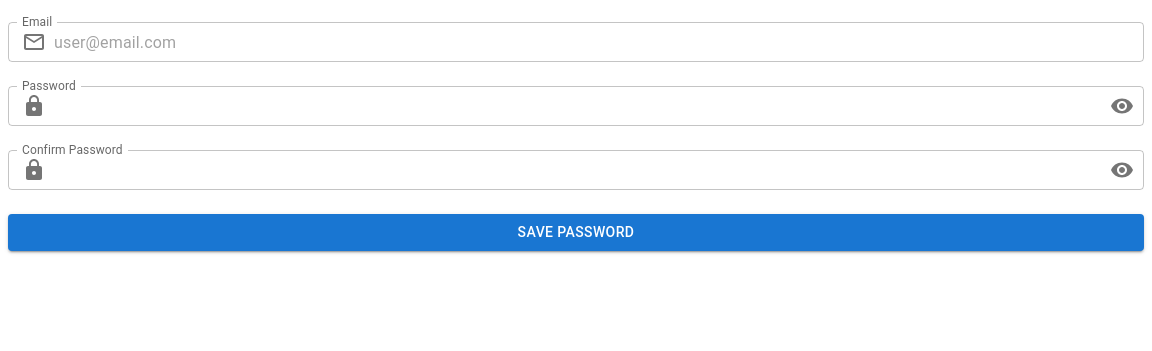
Reset Password Form › should display error messages when clicked on button and passwords does not match
This screenshot has width=1152, height=351.
Type "email@business.com" into the field labelled "Email" at (599, 42), box [54,22,1144,62]
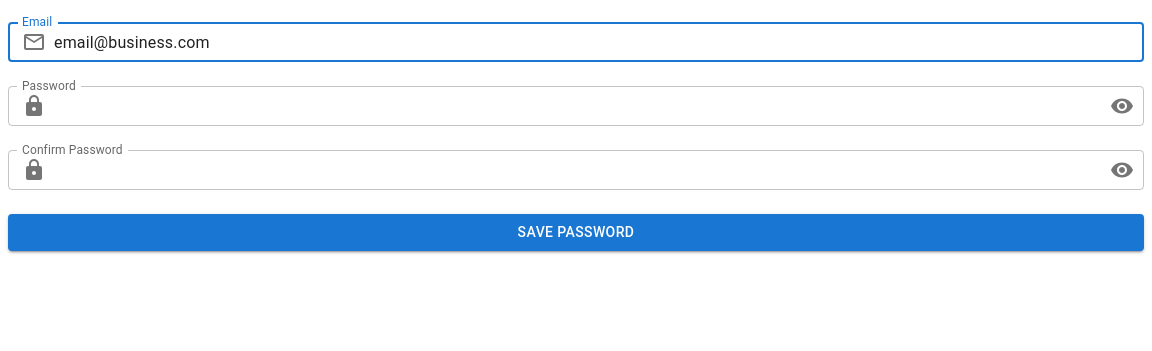
Type "Clave123" into the password field labelled "Password" at (578, 106), box [54,86,1102,126]
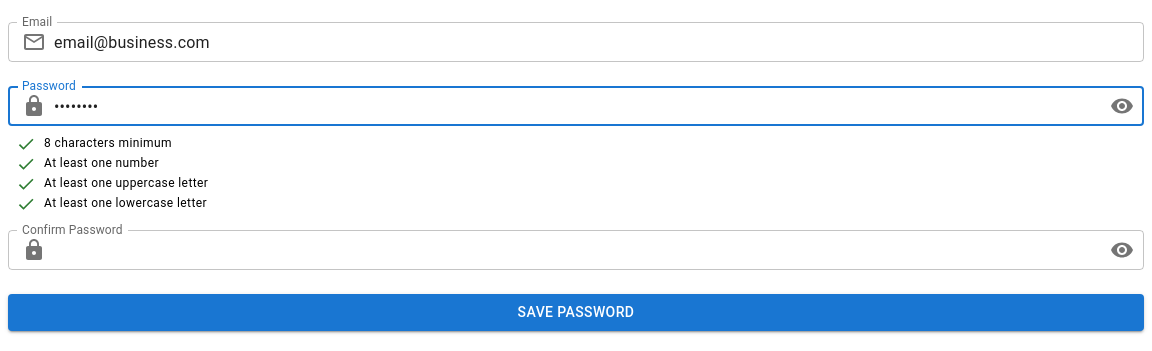
Type "Slave123" into the password field labelled "Confirm Password" at (578, 250), box [54,230,1102,270]
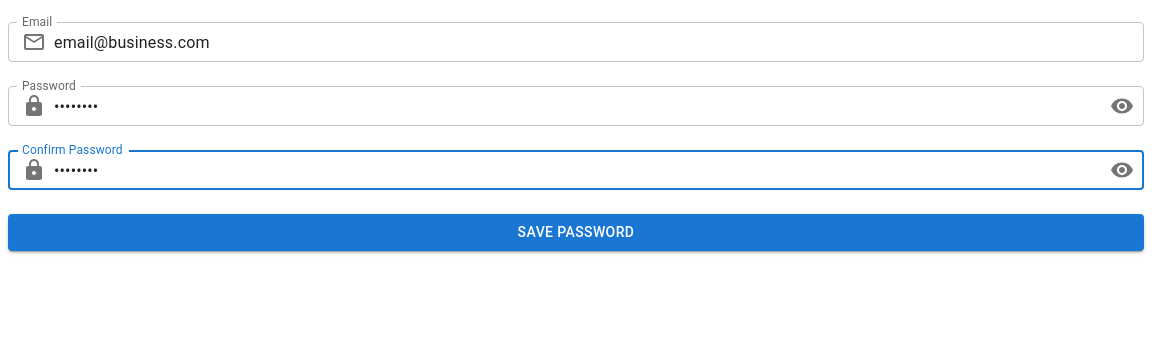
Click the button "Save password" at (576, 232), box [8,214,1144,250]
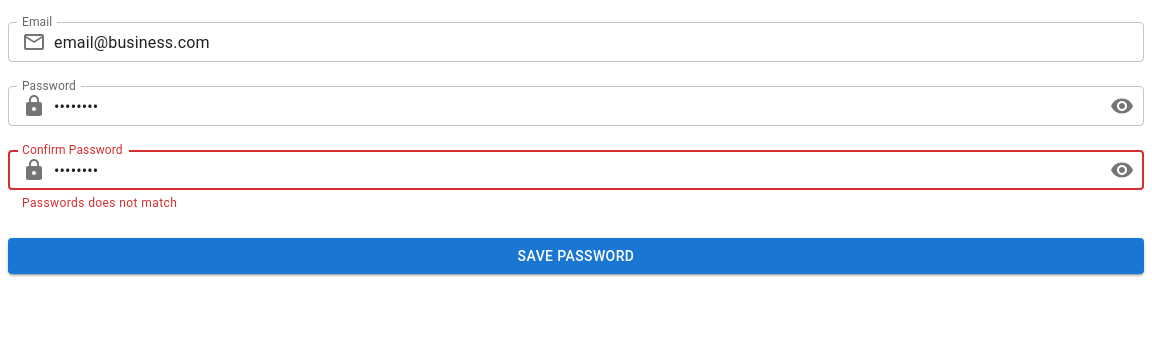
Result: the text "Passwords does not match" is shown at [22,196,177,210]
